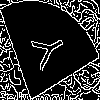Y: (25, 25, 67, 76)
